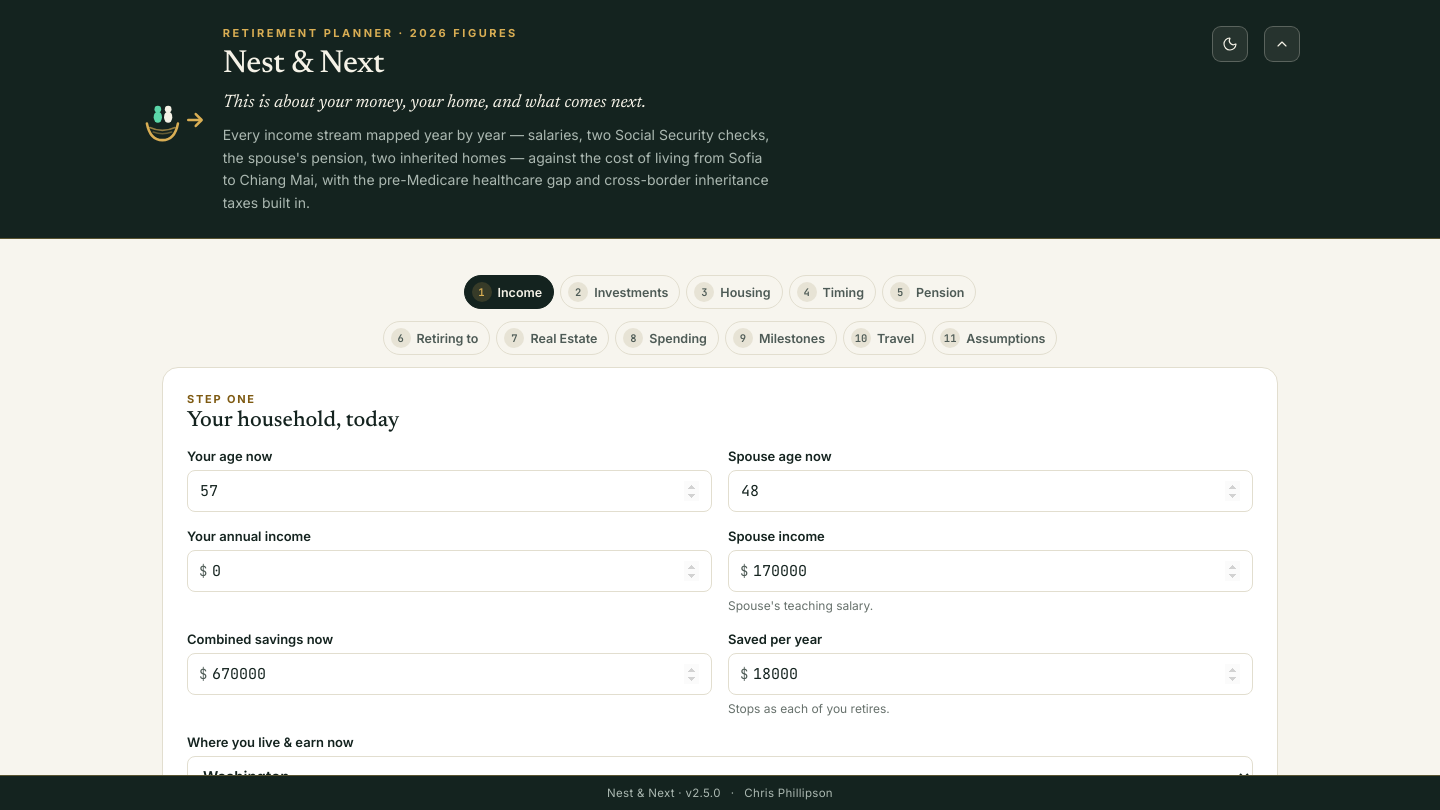
Test case: RetirementCalculator UI › renders the Add event button for family milestones
What coordinates should you click on to do the following:
click the button "9 Milestones"
I would click on:
 (781, 338)
Its box is [725,321,837,355].
(page scrolled)
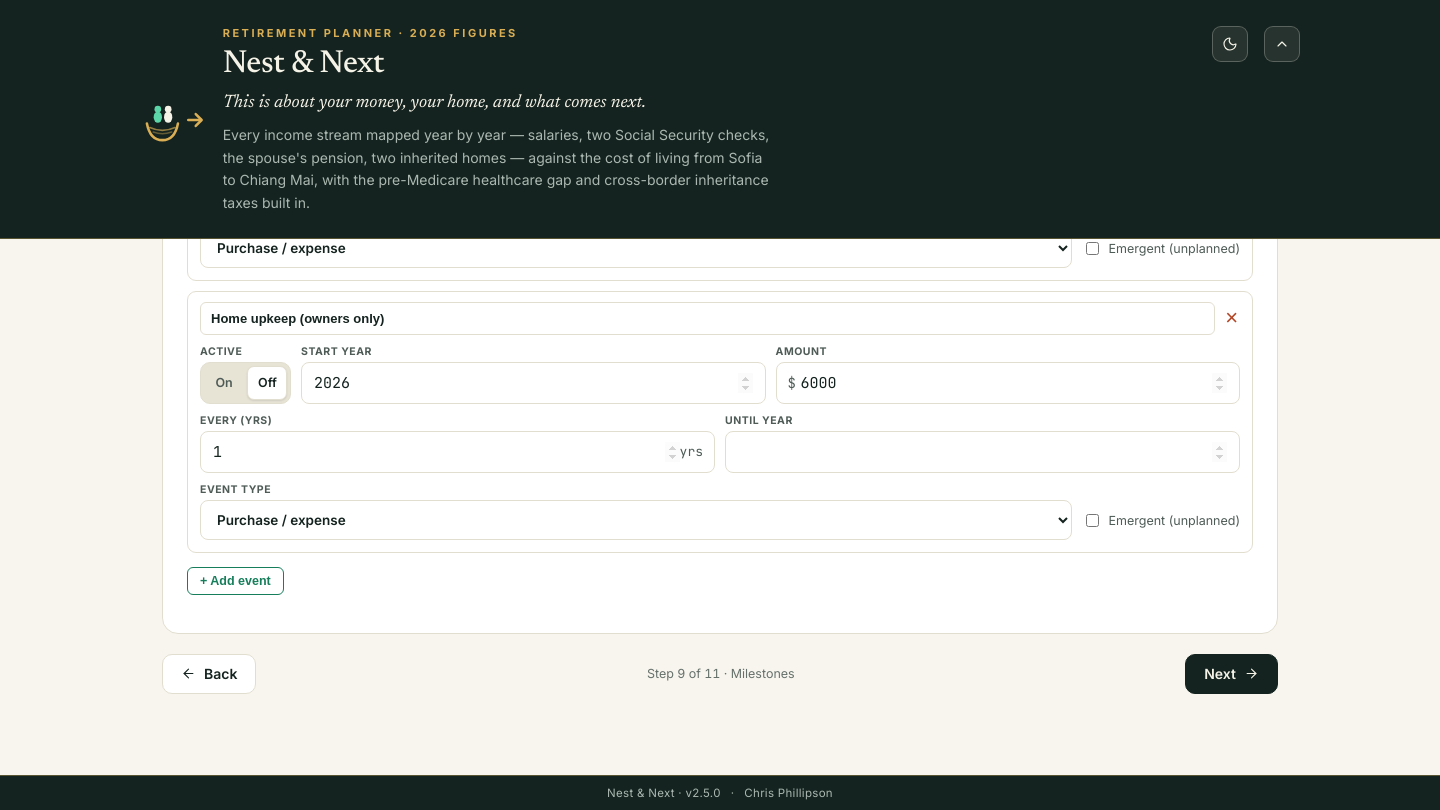
Check: the button "+ Add event" is shown, box [187,566,284,594]
